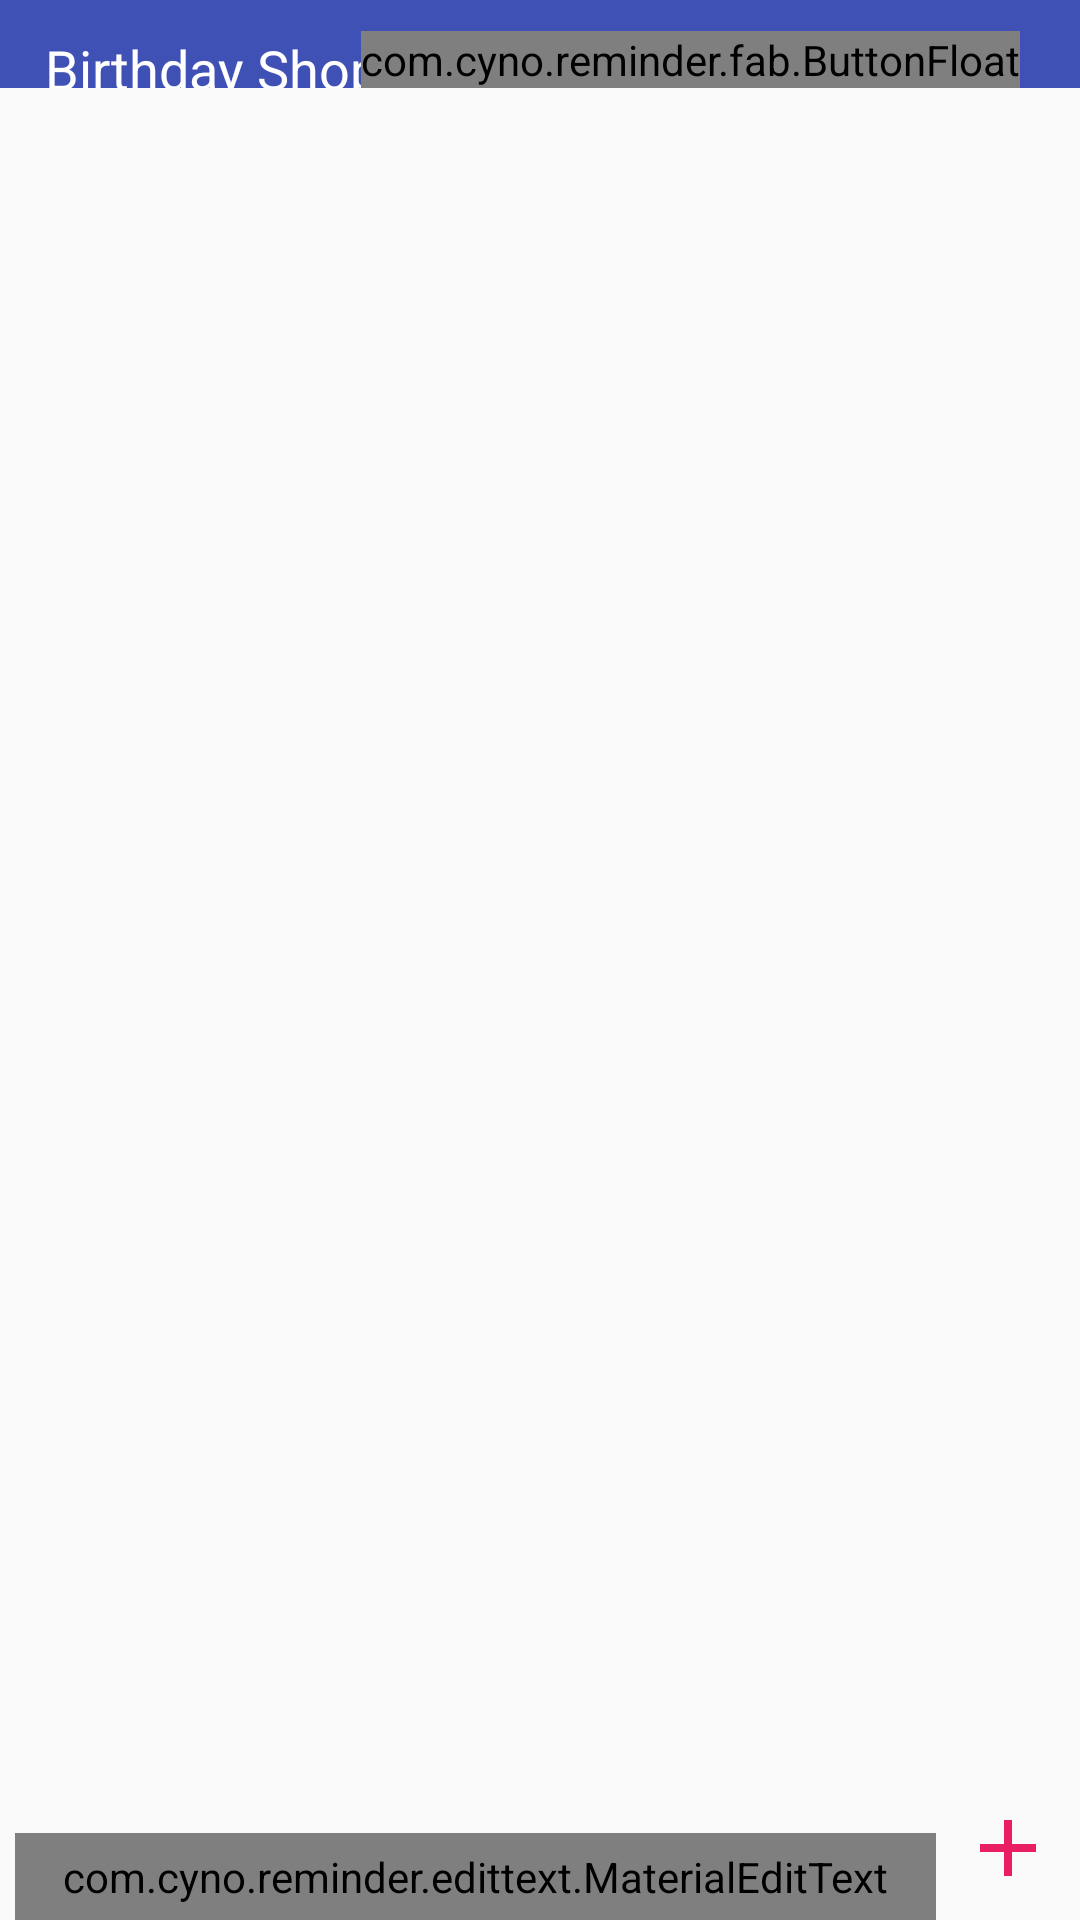

Screen size 1080w x 1920h. Icon name, then its box in pixels as (x1, y1, x2, y2):
add: (980, 1820, 1036, 1876)
